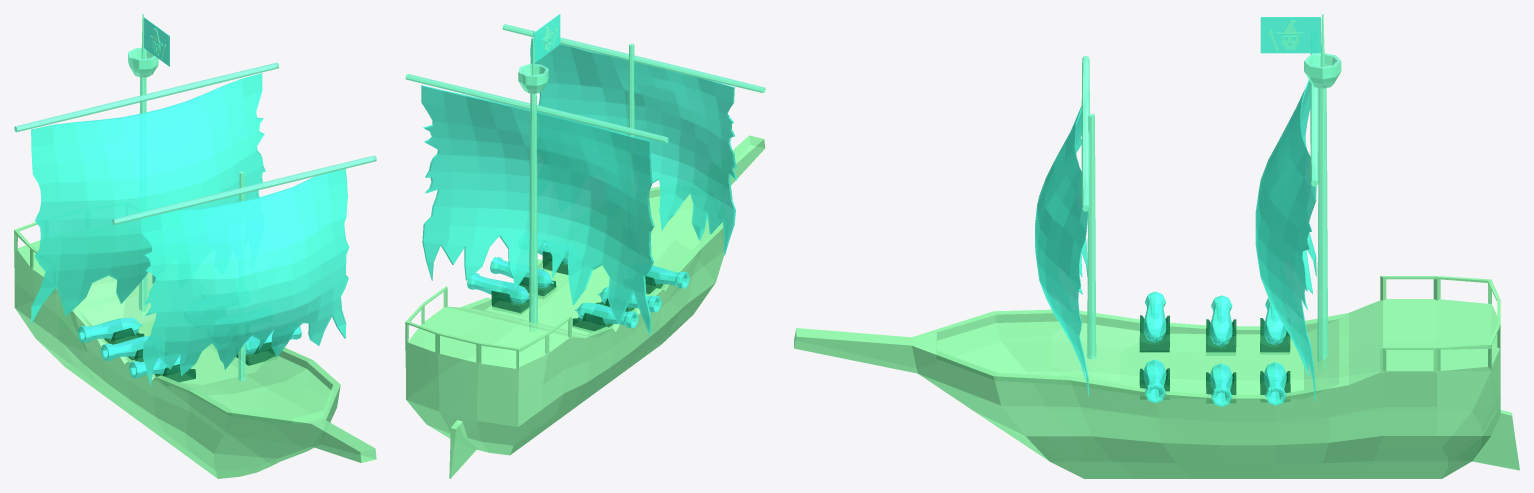
The model's file is ghostship.fbx.
The picture shows the model from 3 angles, left to right: view 1: azimuth 30°, elevation 25°; view 2: azimuth 150°, elevation 25°; view 3: azimuth 270°, elevation 25°; orthographic projection. The views are drawn at different scales.
Visible parts, largest first — view 1: CannonBarrel.005; view 2: CannonBarrel.005; view 3: CannonBarrel.005.
Boxes of the visible parts, x1,y1,x2,y2 form: CannonBarrel.005: (14,14,376,478); CannonBarrel.005: (405,14,765,478); CannonBarrel.005: (794,14,1519,478).
Size of the model in its own units: 768 by 1092 by 1575.
